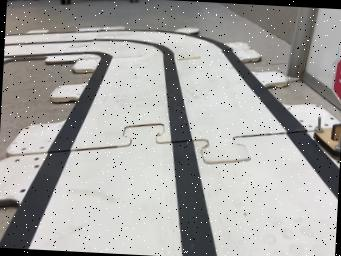street: (0, 28, 339, 256), (0, 28, 339, 256), (0, 28, 339, 256)
